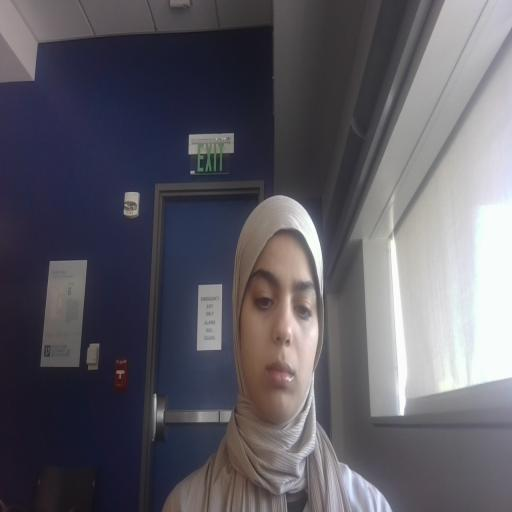lookingdownatphone: (240, 232, 319, 424)
